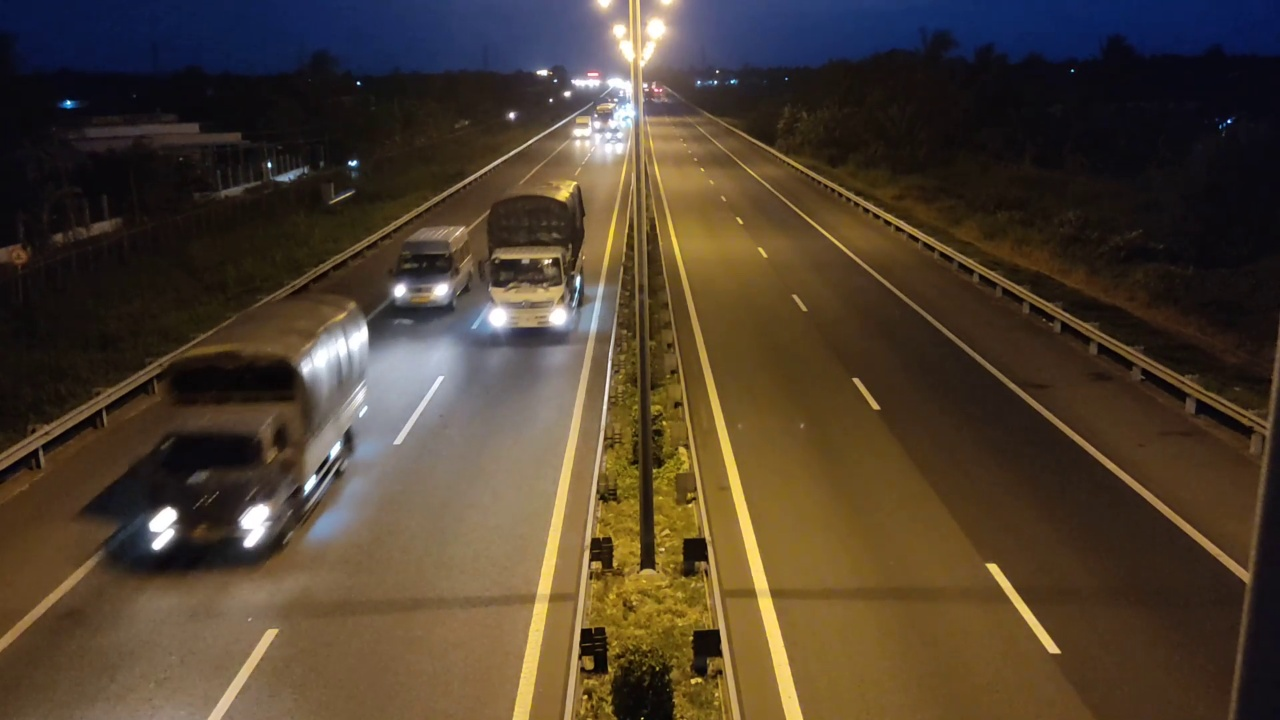car: (390, 219, 475, 320)
truck: (139, 291, 376, 566), (485, 178, 587, 339)
